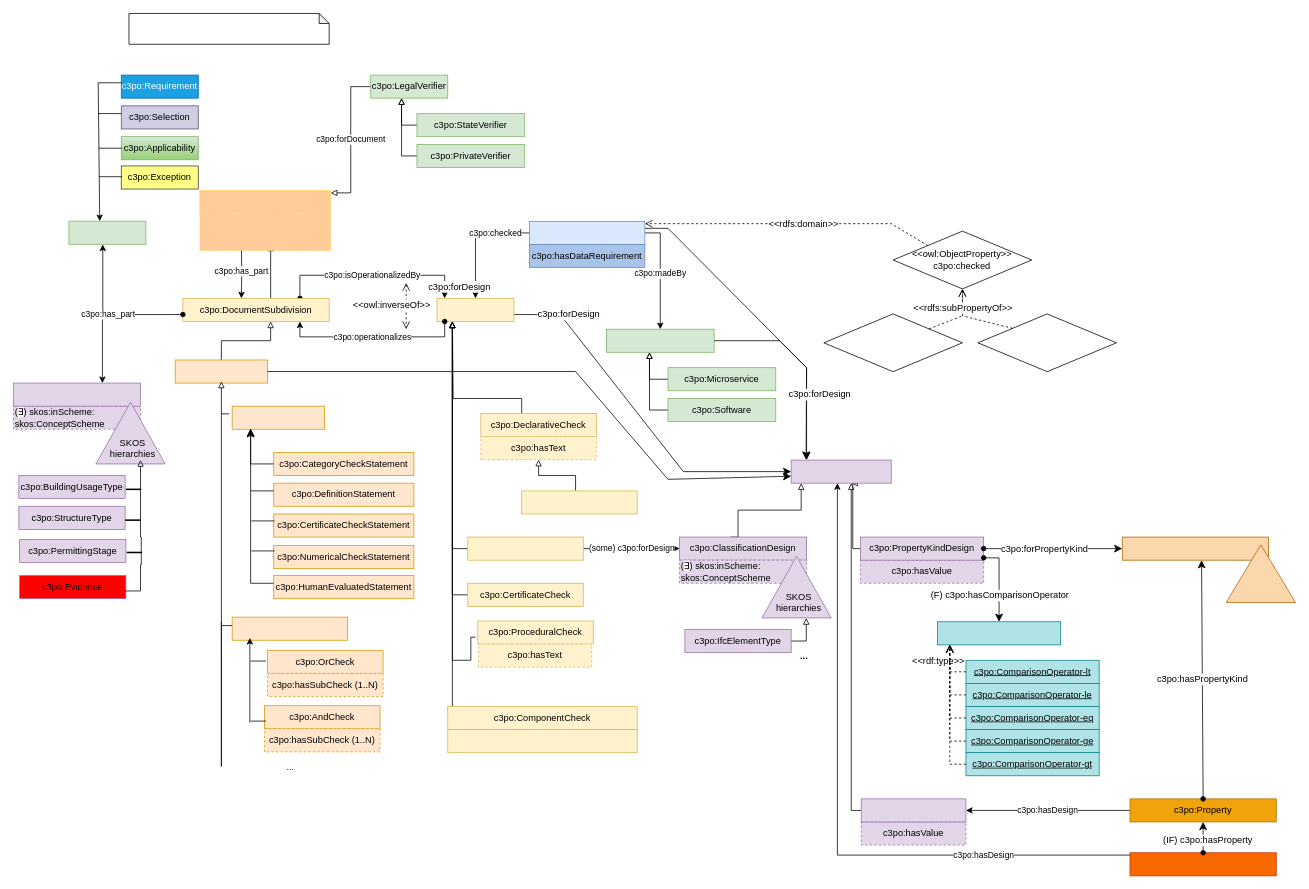
Image size: 1309x889. Some labels were removed from this diagram. The shapes that lost their labels are listed below. From the top down, each one's centre as x and y in pixels, then its label:
point 228,28: c3po : https://w3id.org/lbd/c3po/ dct: http://purl.org/dc/terms/
point 265,202: c3po:Document
point 107,232: c3po:RASE
point 265,232: (all) dct:identifier: dct:issued: dct:references: dct:requires: dct:relation:
point 587,232: c3po:Checking
point 475,309: c3po:Check
point 660,340: c3po:ProcessVerifier
point 892,342: <<owl:ObjectProperty>> c3po:satisfied
point 1046,342: <<owl:ObjectProperty>> c3po:unsatisfied
point 221,371: c3po:Statement
point 77,394: c3po:NamedEntity
point 278,417: c3po:CheckStatement
point 840,471: c3po:Design
point 579,502: c3po:IDSCheck
point 525,548: c3po:CheckForConcept
point 1195,548: c3po:PropertyKind
point 1260,573: SKOS hierarchy
point 289,628: c3po:ChecklistStatement
point 999,633: c3po:ComparisonOperator
point 542,741: (all) c3po:forDesign: (all) (inverseOf) c3po:hasDesign: c3po:FeatureOfInterest
point 913,810: c3po:PropertyDesign
point 1202,864: c3po:FeatureOfInterest
